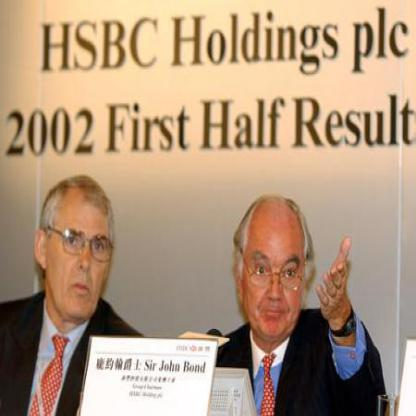face: (49, 181, 113, 323), (244, 197, 307, 341)
